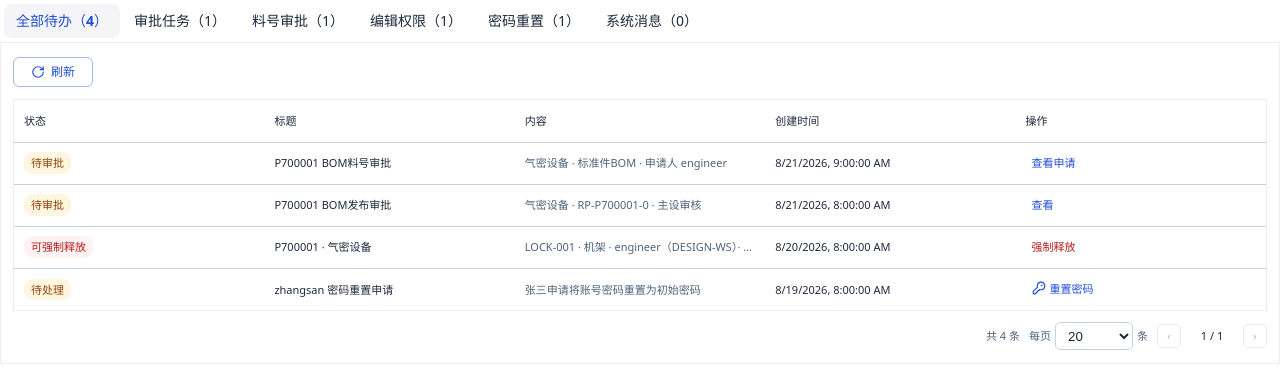
Test case: MyTasks › uses one CRM-style message list with task type filters
Expected: the navigation bar named "待办类型" shows "全部待办（4）", [4,4,120,38]
Click the tab "编辑权限（1）".
click(416, 21)  # box [358,4,474,38]
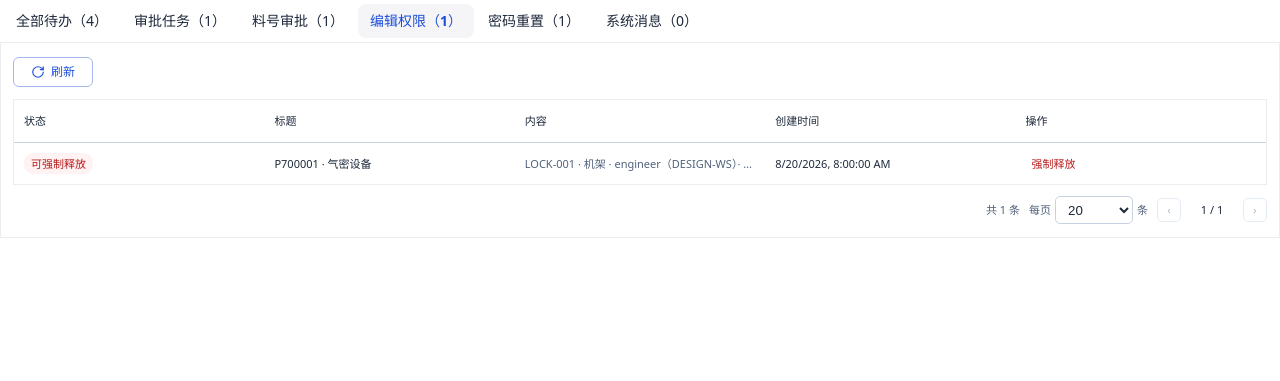
Expected: the text "P700001 · 气密设备" is shown, [274,156,372,170]
Now the text "P700001 BOM发布审批" is gone
Now the text "zhangsan 密码重置申请" is gone
